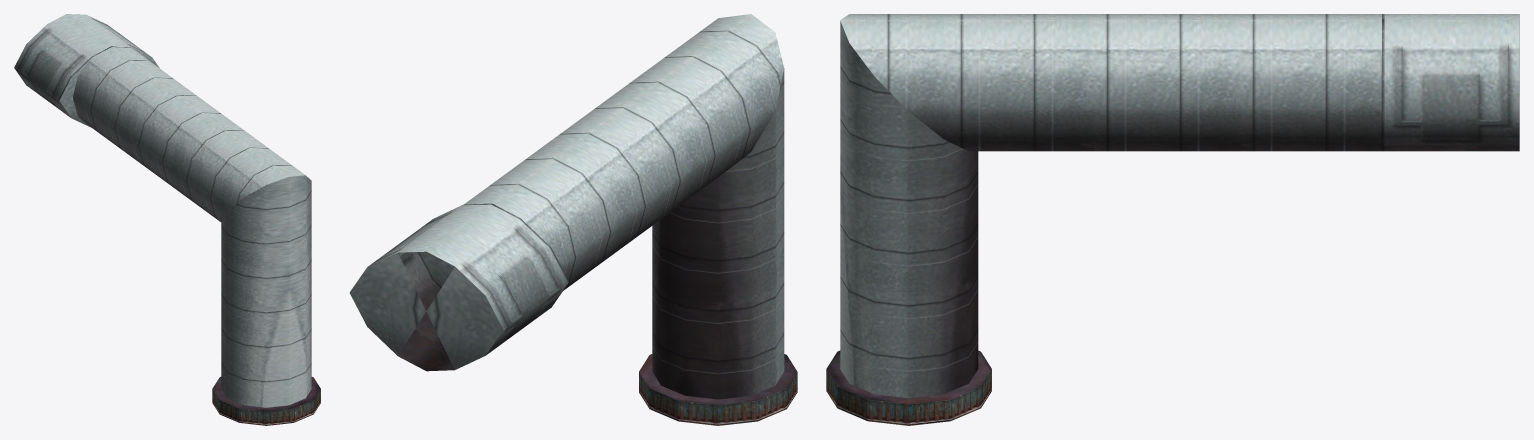
File: pipes_termination.fbx
3 views of the same model, side by side, from view 1: azimuth 30°, elevation 25°; view 2: azimuth 150°, elevation 25°; view 3: azimuth 270°, elevation 25° (orthographic). The views are drawn at different scales.
Visible parts, largest first — view 1: mesh_1, mesh_0; view 2: mesh_1, mesh_0; view 3: mesh_1, mesh_0.
Boxes of the visible parts, <box> form: mesh_1: <box>14,14,311,407</box>; mesh_0: <box>212,377,320,425</box>; mesh_1: <box>349,14,784,399</box>; mesh_0: <box>639,354,797,425</box>; mesh_1: <box>840,14,1519,398</box>; mesh_0: <box>826,350,991,425</box>.
Bounding box in the file's own units: 103 × 227 × 384.
1 material, 1 textured.
